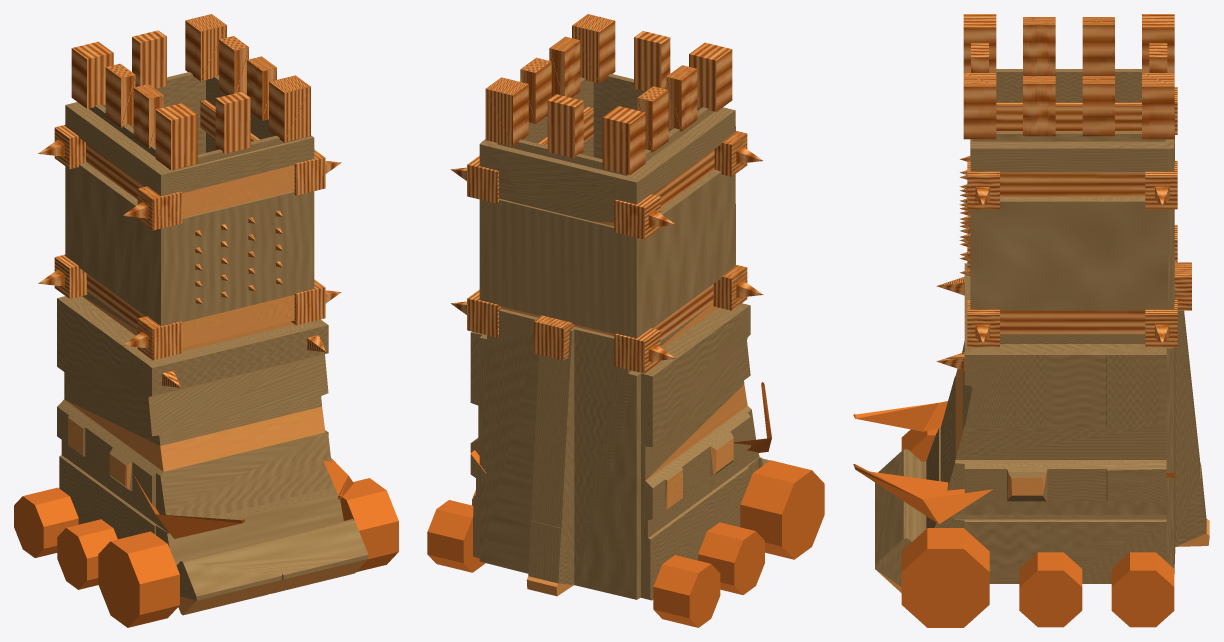
The model's file is ae_siege_tower_open_bronze_lod0.glb.
3 views of the same model, side by side, from view 1: azimuth 30°, elevation 25°; view 2: azimuth 150°, elevation 25°; view 3: azimuth 270°, elevation 25° (orthographic). The views are drawn at different scales.
Parts seen in each view (by area): view 1: siege_tower_open; view 2: siege_tower_open; view 3: siege_tower_open.
Part boxes in pixels (<box>): siege_tower_open: <box>14,14,398,627</box>; siege_tower_open: <box>427,14,824,627</box>; siege_tower_open: <box>853,14,1209,627</box>.
Size of the model in its own units: 46.39 by 82.22 by 51.97.
Materials: 4 (3 with a texture image).
